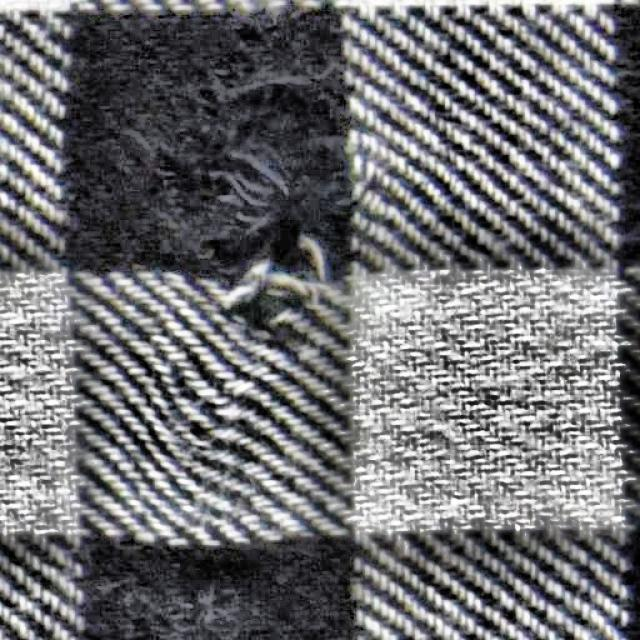gray stitch: (105, 43, 433, 447)
